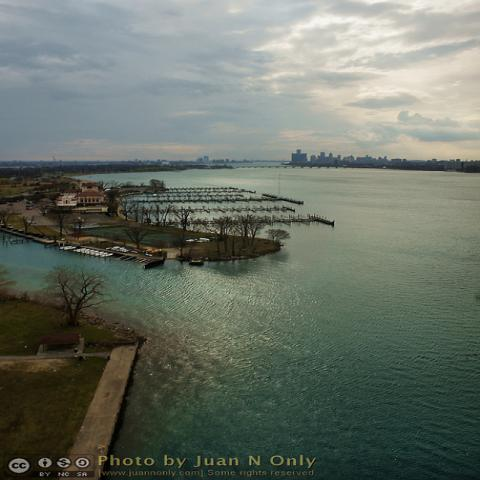car: (122, 248, 132, 253), (185, 239, 195, 243), (119, 247, 126, 252), (132, 250, 138, 253)
